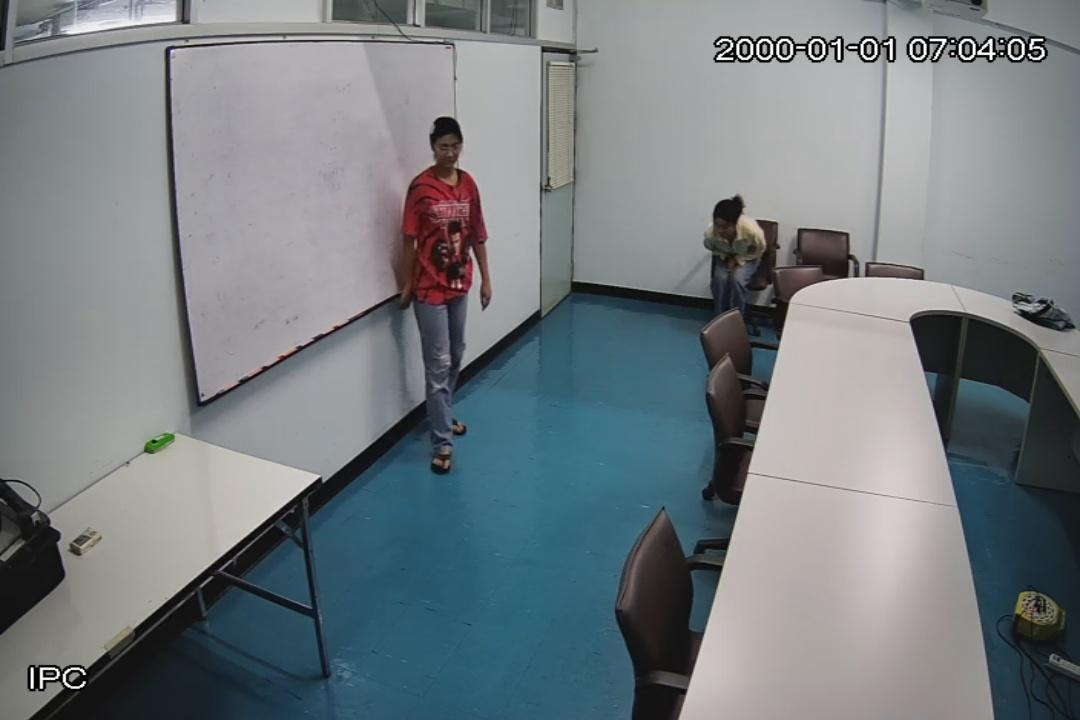normal: (400, 108, 502, 484), (694, 186, 770, 350)
